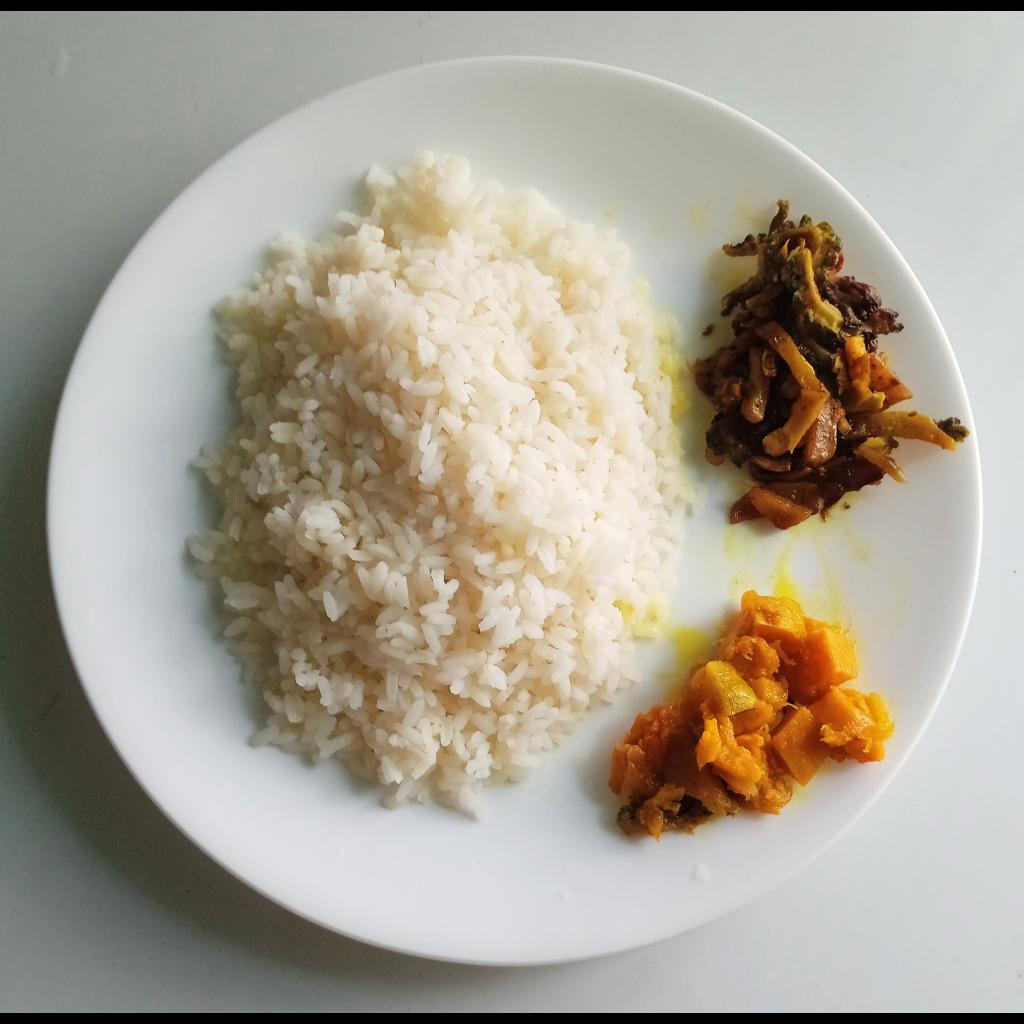korola-vaji: (686, 197, 969, 535)
kumra-vaji: (604, 593, 897, 842)
rice: (182, 153, 706, 816)
